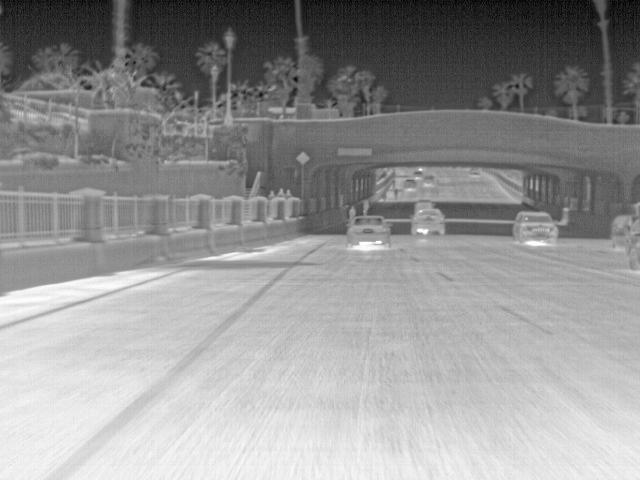car: (347, 213, 395, 249), (514, 207, 559, 245), (409, 210, 447, 238), (401, 176, 420, 194), (413, 199, 437, 211)
person: (274, 186, 287, 198), (281, 188, 293, 200), (266, 189, 277, 199)
